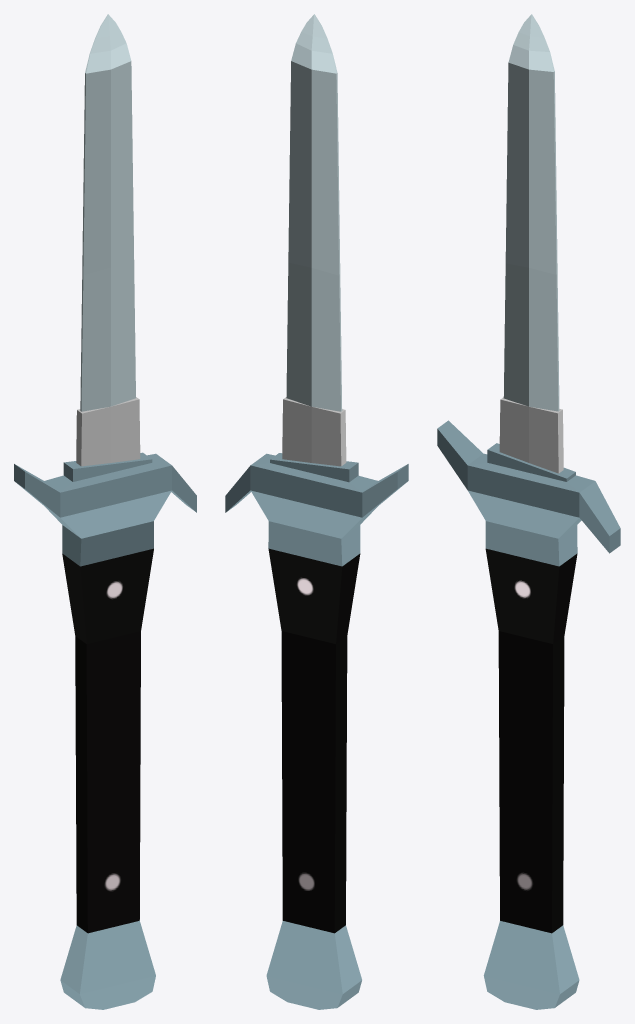
File: SwitchBlade-Blade out.obj
3 renders of one model, left to right at view 1: azimuth 30°, elevation 25°; view 2: azimuth 150°, elevation 25°; view 3: azimuth 330°, elevation 25°, orthographic.
Visible parts, largest first — view 1: Cube; view 2: Cube; view 3: Cube.
Part boxes in pixels (bbox=[...]): Cube: bbox=[14, 14, 196, 1009]; Cube: bbox=[225, 14, 408, 1009]; Cube: bbox=[437, 14, 620, 1009].
Bounding box in the file's own units: 0.0373 × 0.2036 × 0.00827.
Materials: 4 (1 with a texture image).
